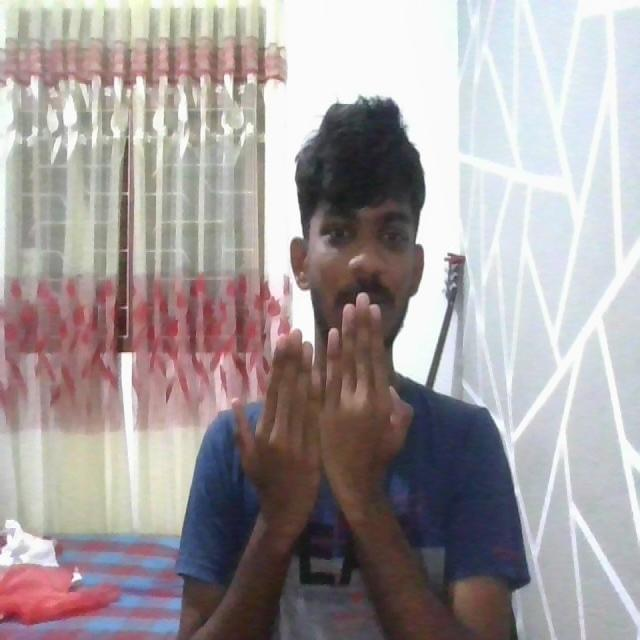ThankYou: (171, 286, 525, 640)
